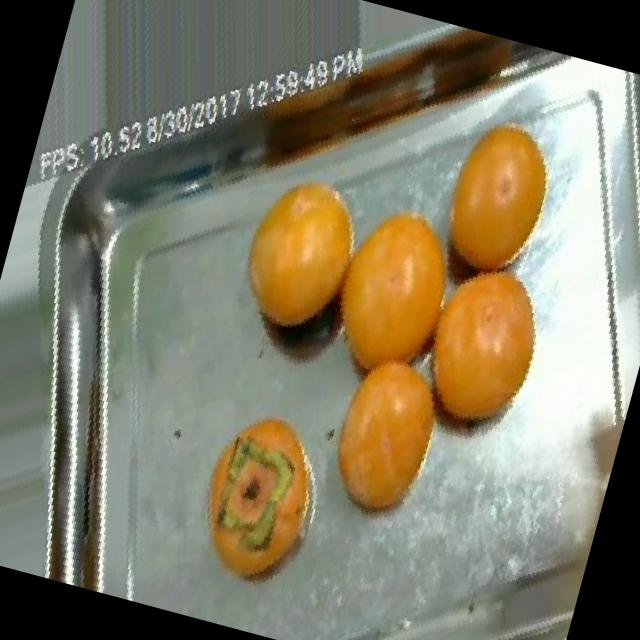Fruit: (388, 230, 584, 468), (202, 136, 394, 370), (170, 382, 356, 621), (405, 85, 591, 318), (296, 325, 484, 553)
